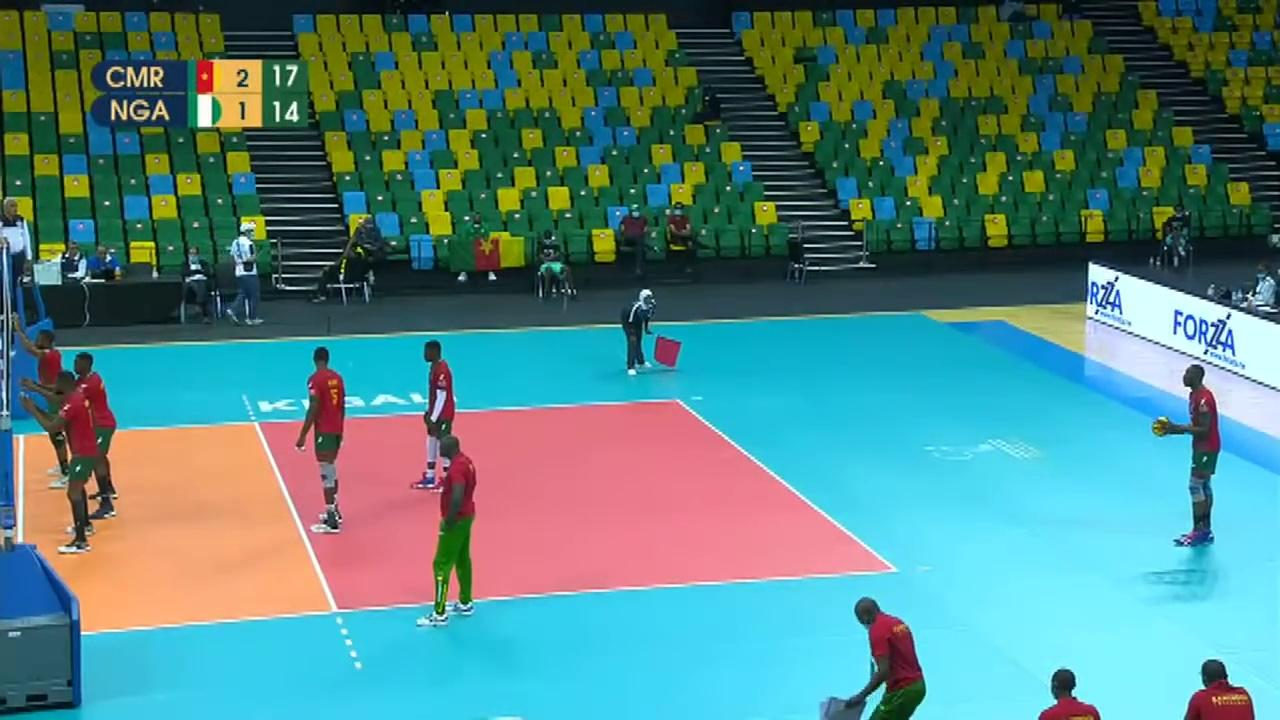player: (1154, 362, 1224, 546), (41, 372, 106, 554), (296, 351, 349, 530), (71, 353, 123, 517), (27, 325, 70, 491), (418, 345, 462, 490)
refree: (0, 199, 30, 320), (624, 286, 660, 374)
